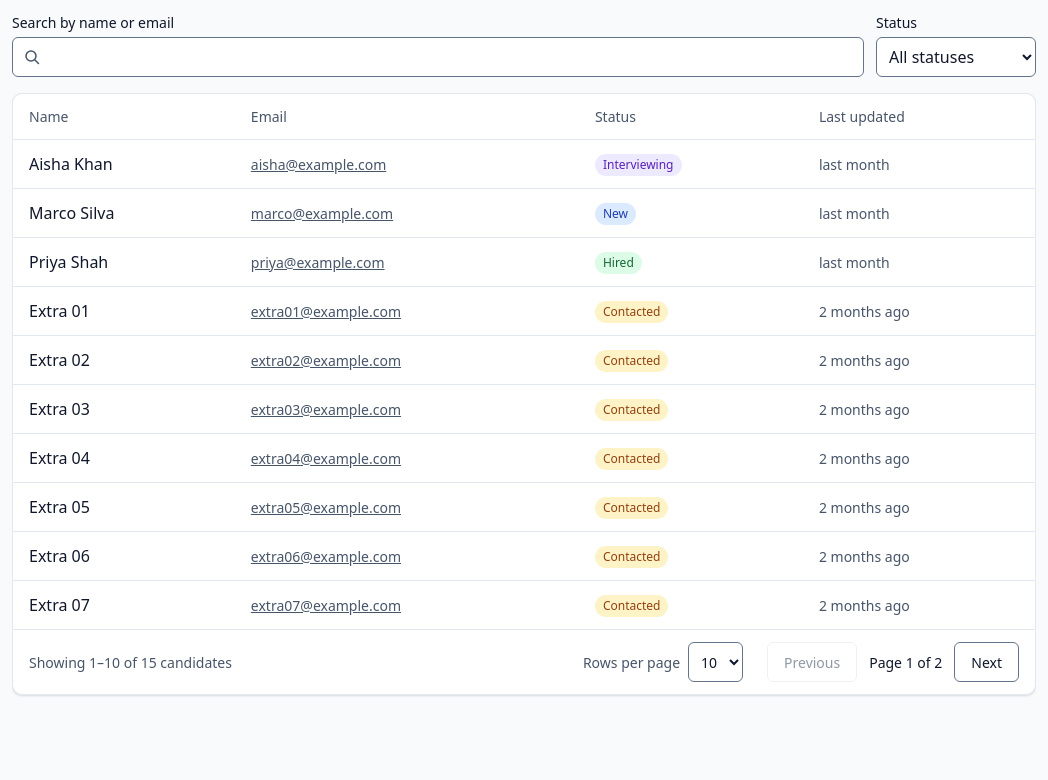
CandidateSearch › clearing › clears the search from the button inside the input and refocuses it
The image size is (1048, 780).
Expected: the text "Aisha Khan" is shown, [13,140,235,188]
Type "marco" into the search field labelled "Search by name or email".
click(438, 57); type("marco")  # box [12,37,864,77]
Then press Enter
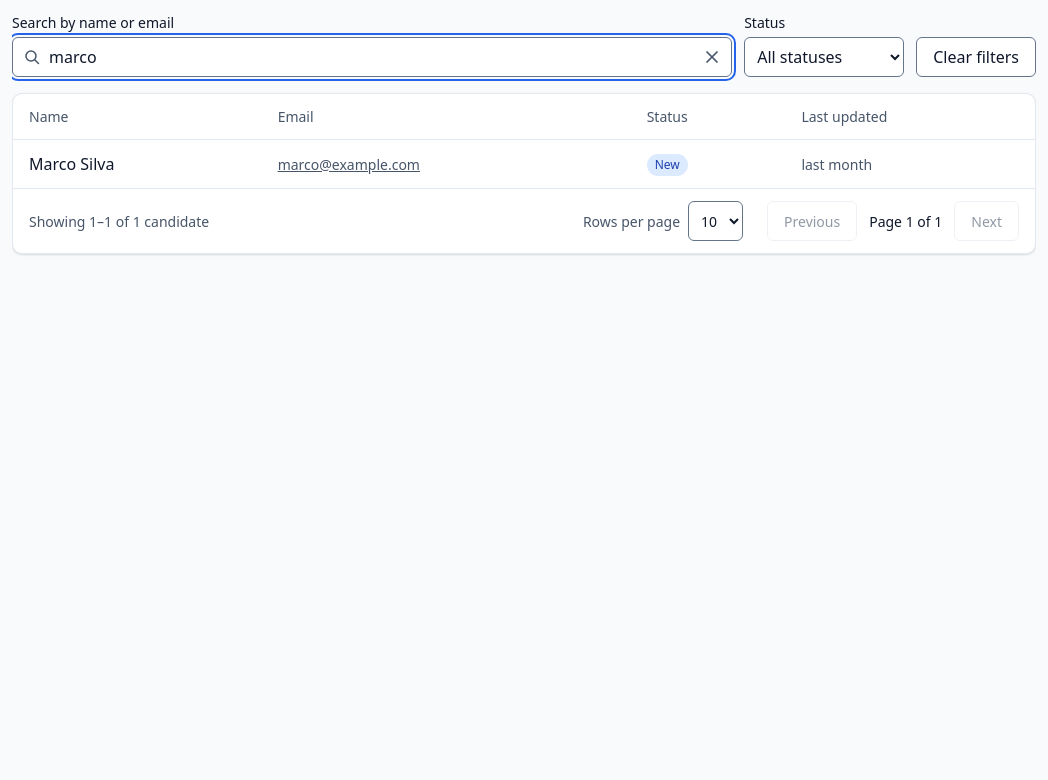
Expected: the text "Showing 1–1 of 1 candidate" is shown, [29,210,209,232]
Click the button named "Clear search".
click(712, 57)  # box [692,37,732,77]
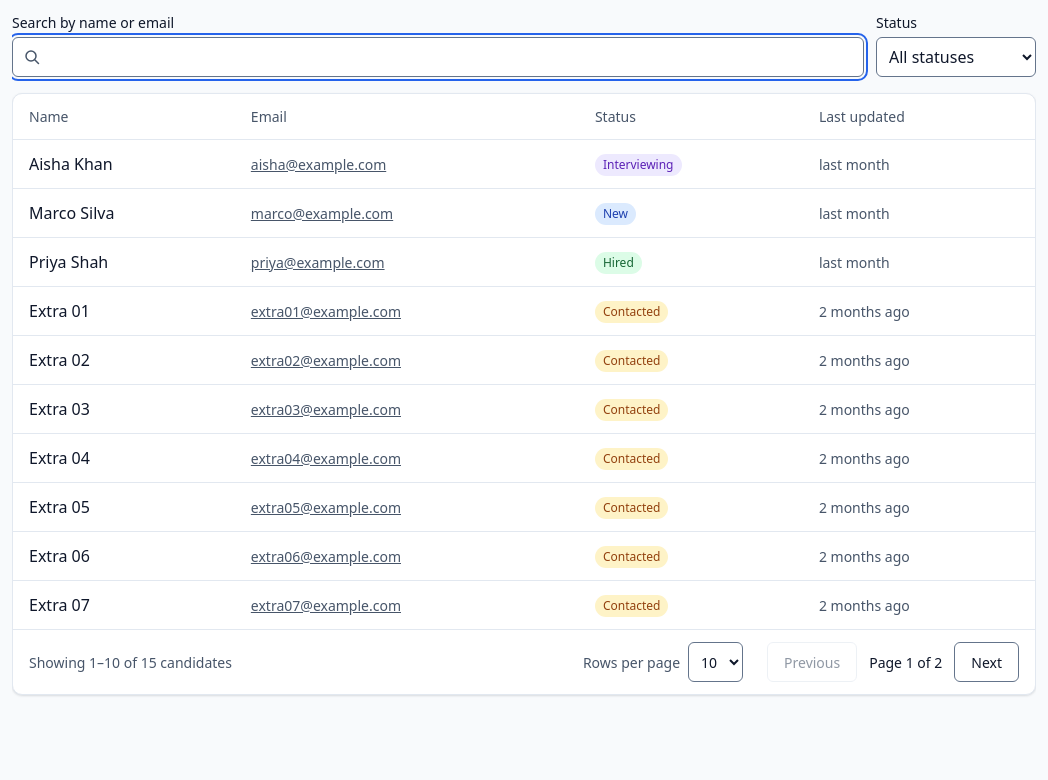
Expected: the search field labelled "Search by name or email" is empty, [12,37,864,77]
Expected: the text "Aisha Khan" is shown, [13,140,235,188]
